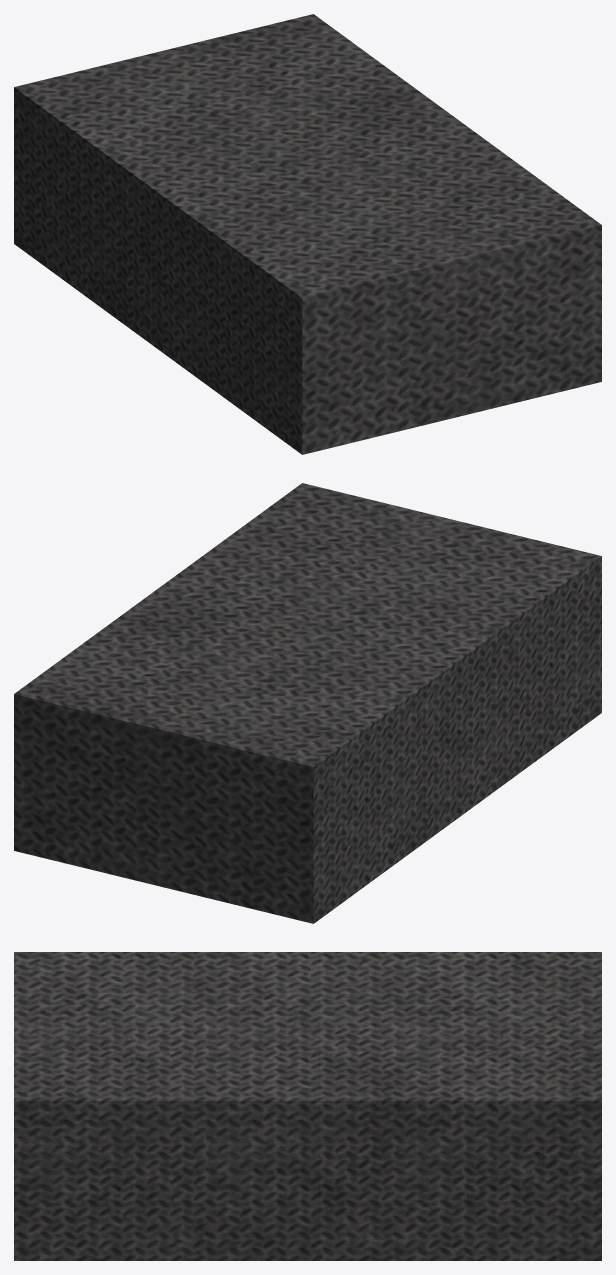
The model's file is simple2.fbx.
3 renders of one model, top to bottom at view 1: azimuth 30°, elevation 25°; view 2: azimuth 150°, elevation 25°; view 3: azimuth 270°, elevation 25°, orthographic.
Visible parts, largest first — view 1: pCube5; view 2: pCube5; view 3: pCube5.
Boxes of the visible parts, x1,y1,x2,y2 form: pCube5: (14,14,601,454); pCube5: (14,483,601,923); pCube5: (14,952,601,1260).
Bounding box in the file's own units: 3 × 1.5 × 5.
